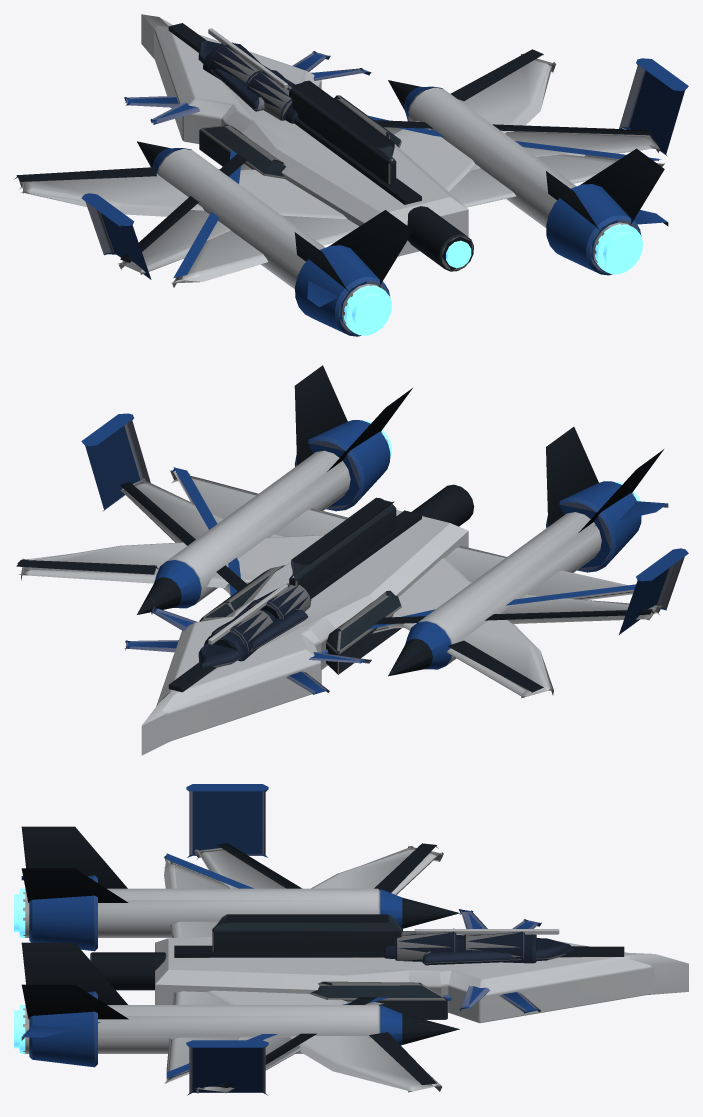
The model's file is hero-interceptor-kit.glb.
The picture shows the model from 3 angles, top to bottom: view 1: azimuth 30°, elevation 25°; view 2: azimuth 150°, elevation 25°; view 3: azimuth 270°, elevation 25°; orthographic projection. The views are drawn at different scales.
Parts seen in each view (by area): view 1: hero_interceptor_engines_b, hero_interceptor_wings_a, hero_interceptor_wings_c, hero_interceptor_hull_c, hero_interceptor_engines_c, hero_interceptor_hull_a, hero_interceptor_wings_b, hero_interceptor_hull_b, hero_interceptor_engines_a, hero_interceptor_cockpit_b, hero_interceptor_cockpit_c; view 2: hero_interceptor_engines_b, hero_interceptor_hull_c, hero_interceptor_wings_a, hero_interceptor_wings_c, hero_interceptor_hull_a, hero_interceptor_engines_c, hero_interceptor_hull_b, hero_interceptor_wings_b, hero_interceptor_cockpit_b, hero_interceptor_engines_a, hero_interceptor_cockpit_c, hero_interceptor_cockpit_a; view 3: hero_interceptor_engines_b, hero_interceptor_hull_c, hero_interceptor_wings_c, hero_interceptor_hull_a, hero_interceptor_engines_c, hero_interceptor_wings_a, hero_interceptor_hull_b, hero_interceptor_wings_b, hero_interceptor_cockpit_b, hero_interceptor_engines_a, hero_interceptor_cockpit_c, hero_interceptor_cockpit_a.
Part boxes in pixels (box(x1,y1,x2,y2)): hero_interceptor_engines_b: box(153, 86, 664, 332); hero_interceptor_wings_a: box(14, 49, 555, 219); hero_interceptor_wings_c: box(81, 58, 688, 279); hero_interceptor_hull_c: box(124, 25, 460, 224); hero_interceptor_engines_c: box(295, 184, 642, 336); hero_interceptor_hull_a: box(141, 14, 468, 256); hero_interceptor_wings_b: box(171, 115, 664, 287); hero_interceptor_hull_b: box(150, 68, 461, 242); hero_interceptor_engines_a: box(137, 80, 668, 330); hero_interceptor_cockpit_b: box(208, 28, 293, 120); hero_interceptor_cockpit_c: box(198, 40, 294, 111); hero_interceptor_engines_b: box(154, 365, 663, 669); hero_interceptor_hull_c: box(124, 497, 436, 742); hero_interceptor_wings_a: box(16, 534, 553, 698); hero_interceptor_wings_c: box(81, 413, 688, 634); hero_interceptor_hull_a: box(141, 510, 468, 755); hero_interceptor_engines_c: box(294, 420, 642, 572); hero_interceptor_hull_b: box(151, 510, 443, 674); hero_interceptor_wings_b: box(170, 467, 635, 633); hero_interceptor_cockpit_b: box(208, 583, 310, 653); hero_interceptor_engines_a: box(137, 501, 668, 676); hero_interceptor_cockpit_c: box(198, 600, 308, 667); hero_interceptor_cockpit_a: box(204, 592, 311, 661); hero_interceptor_engines_b: box(14, 826, 402, 1053); hero_interceptor_hull_c: box(156, 914, 654, 1023); hero_interceptor_wings_c: box(186, 784, 377, 1095); hero_interceptor_hull_a: box(155, 936, 688, 1004); hero_interceptor_engines_c: box(19, 875, 166, 1067); hero_interceptor_wings_a: box(206, 843, 443, 1092); hero_interceptor_hull_b: box(156, 909, 506, 1019); hero_interceptor_wings_b: box(164, 853, 388, 1083); hero_interceptor_cockpit_b: box(395, 928, 559, 961); hero_interceptor_engines_a: box(21, 876, 459, 1044); hero_interceptor_cockpit_c: box(422, 935, 574, 965); hero_interceptor_cockpit_a: box(384, 934, 536, 963).
Bounding box in the file's own units: 1.64 × 0.2894 × 1.77.
